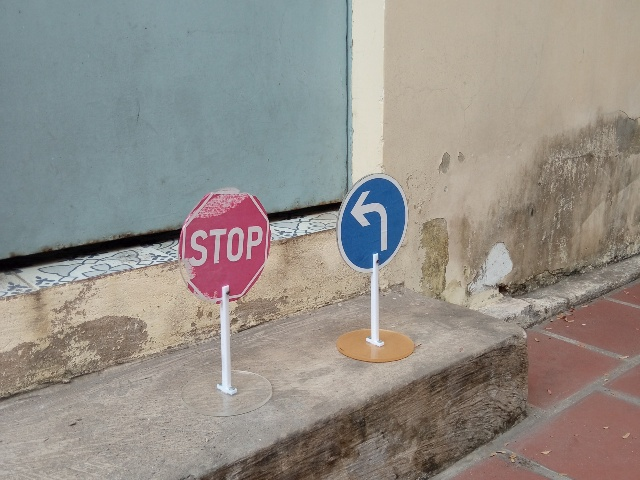Left_Sign: (336, 172, 408, 272)
Stop_Sign: (179, 188, 272, 303)
